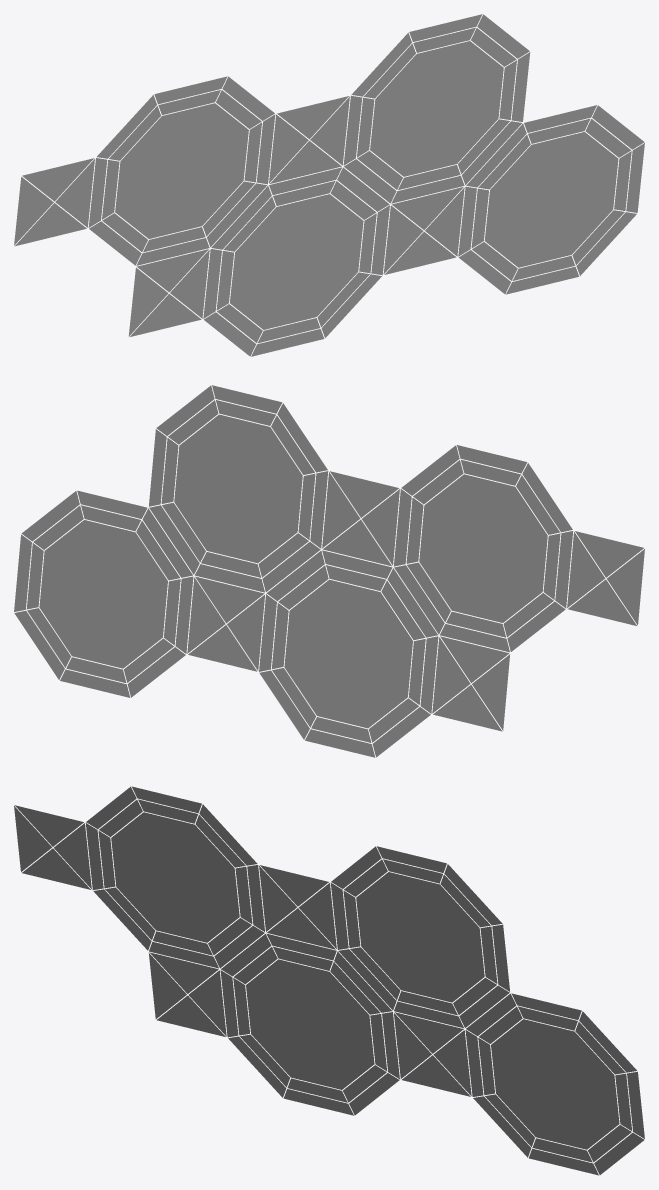
The model's file is ostra.gltf.
3 views of the same model, one above another, from view 1: azimuth 30°, elevation 25°; view 2: azimuth 150°, elevation 25°; view 3: azimuth 330°, elevation 25° (orthographic). The views are drawn at different scales.
Parts seen in each view (by area): view 1: ostra; view 2: ostra; view 3: ostra.
Boxes of the visible parts, x1,y1,x2,y2 form: ostra: (14,14,644,356); ostra: (14,385,644,757); ostra: (14,786,644,1175).
Bounding box in the file's own units: 119 × 56.57 × 9.98.
84 materials, 84 textured.
